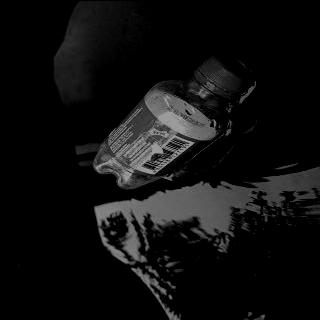bottle: (89, 50, 258, 189)
